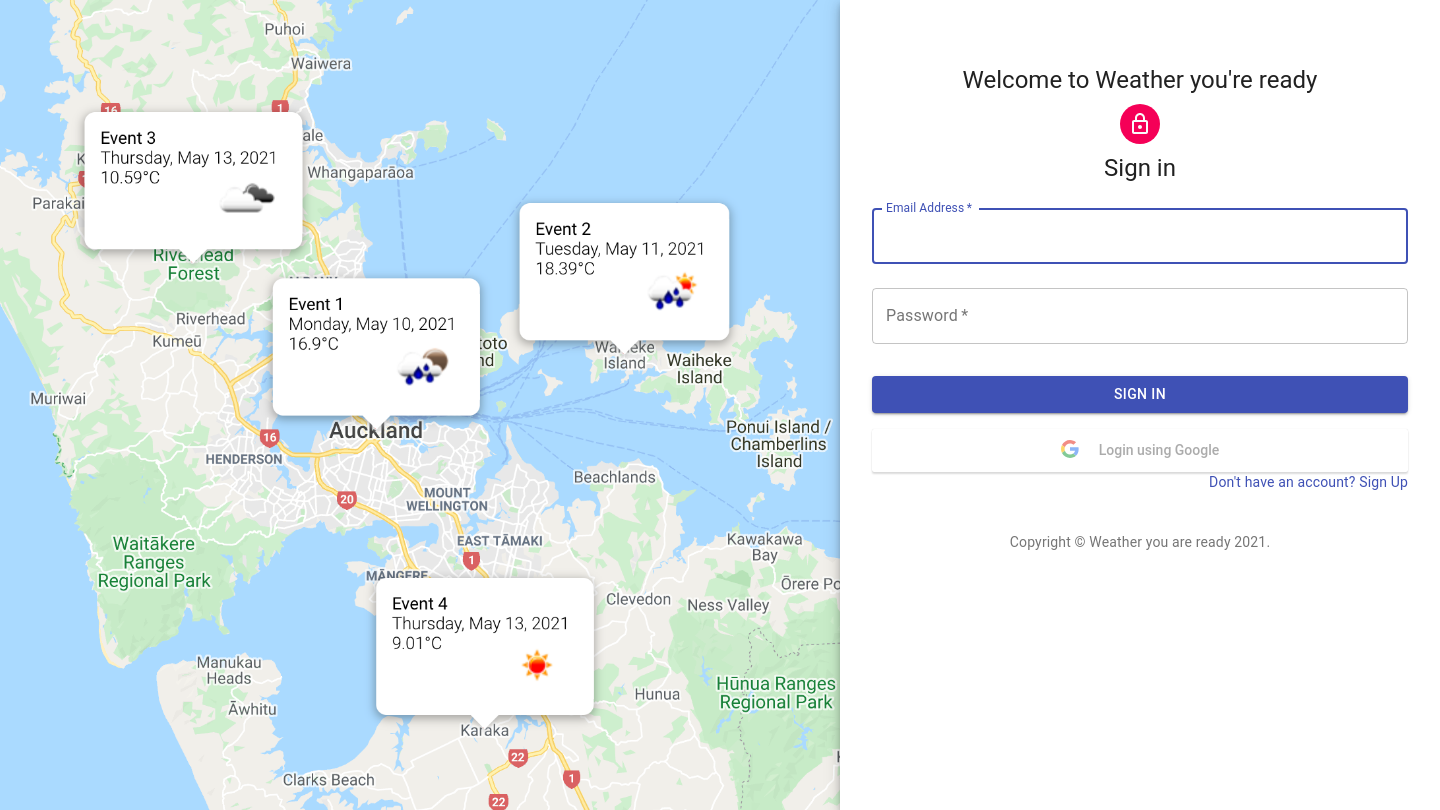
Test: errorMessage › error message shown when submit with invalid email address
Type "test@" into the field with test id "email-login".
click(1140, 236); type("test@")  # box [872, 208, 1408, 264]
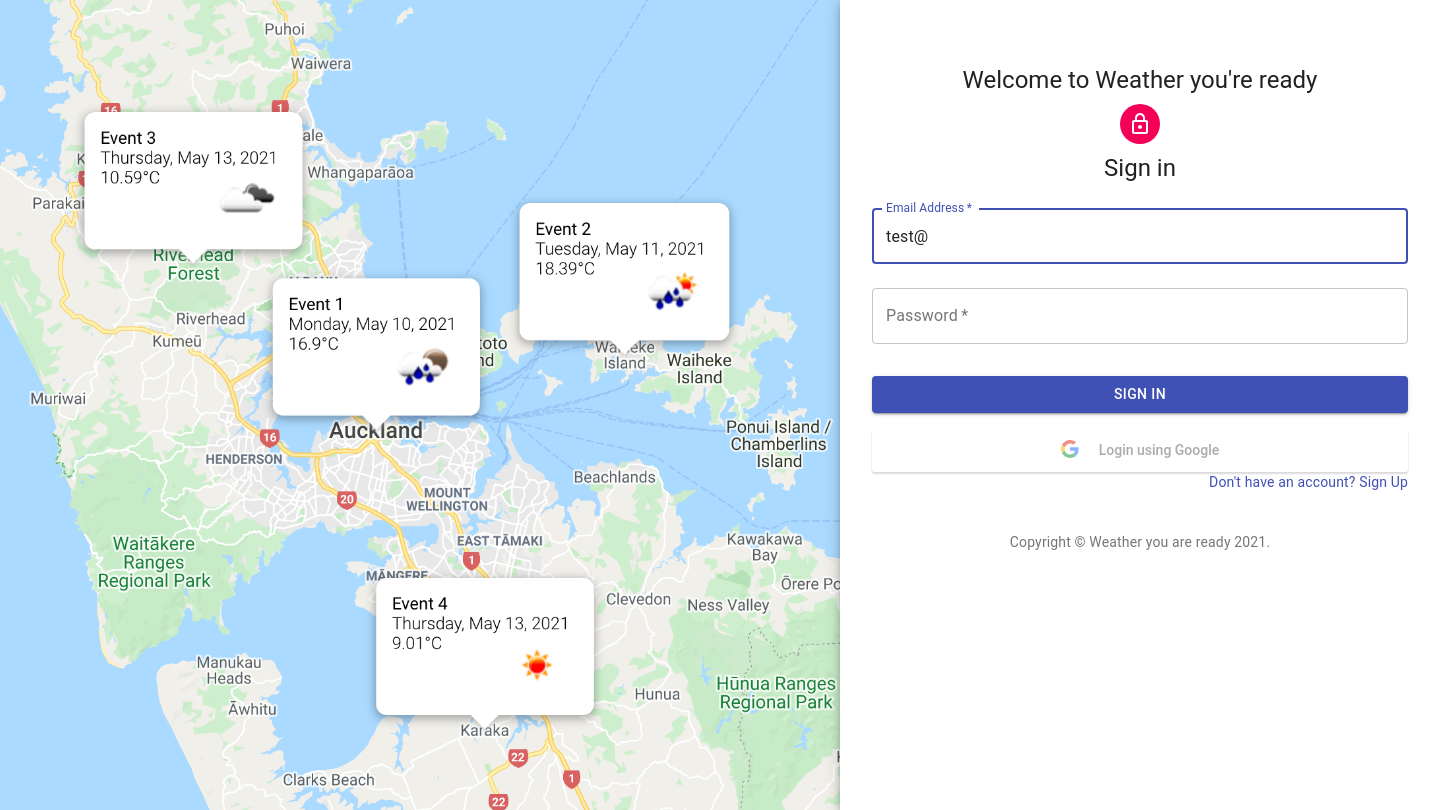
Click the button with test id "submit-login".
click(1140, 394)  # box [872, 376, 1408, 412]
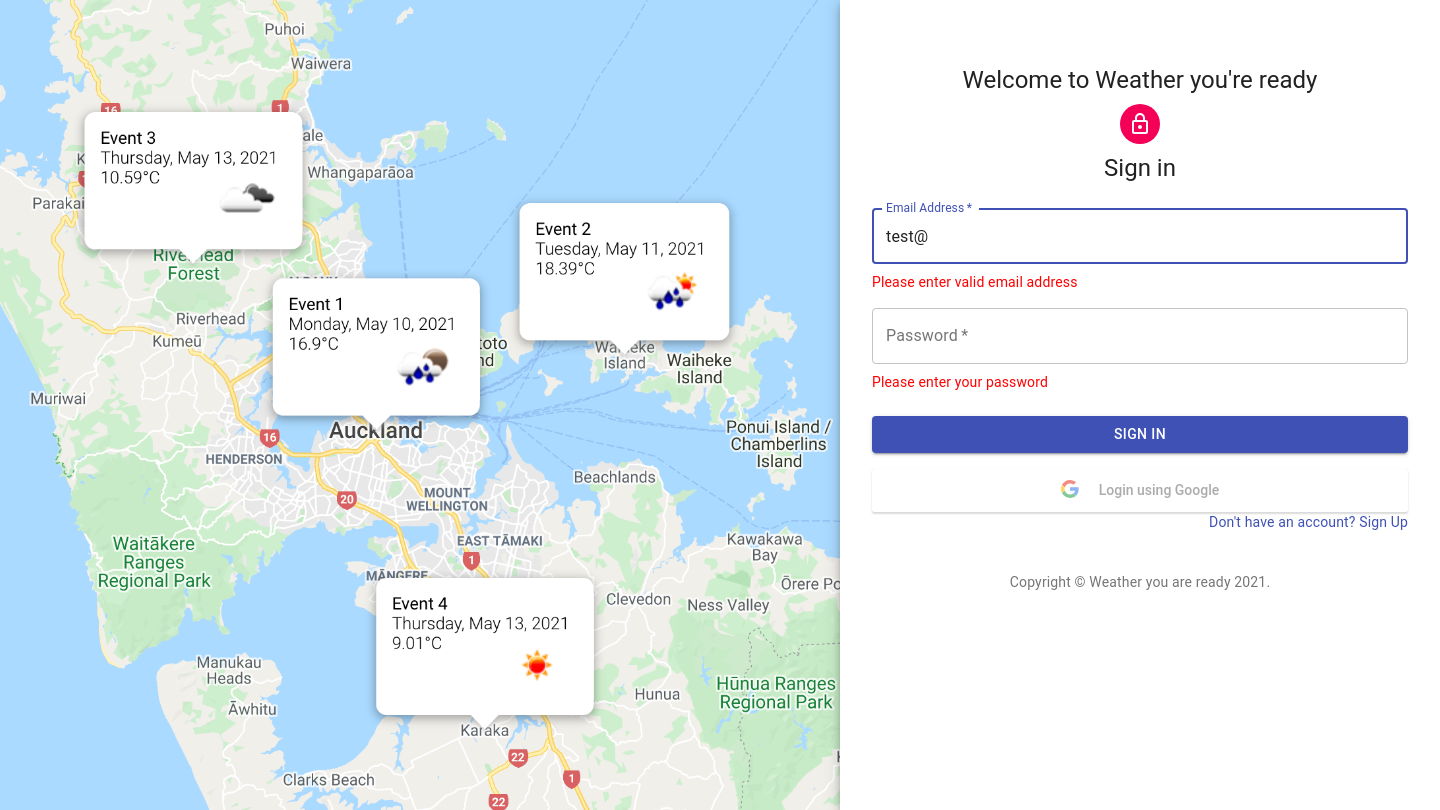
Now the text "Please enter valid email address" is shown, box [872, 274, 1078, 290]
